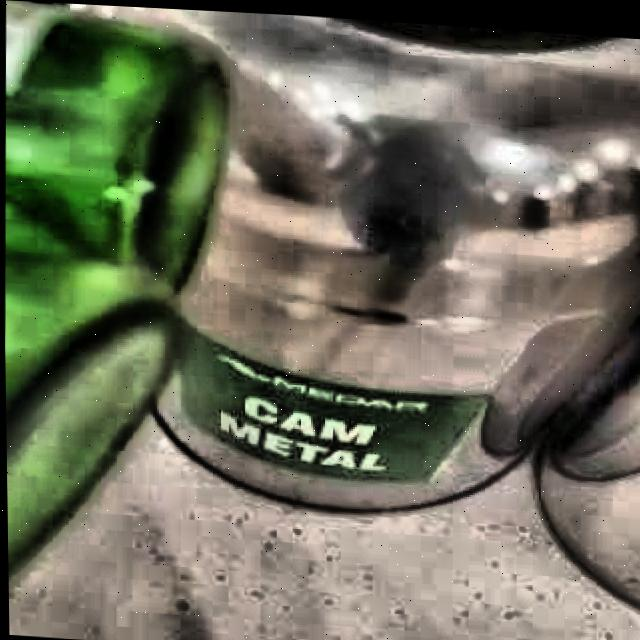glass: (4, 0, 226, 578)
